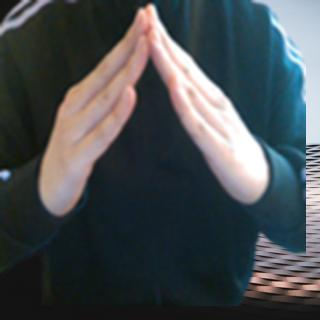HOME: (38, 1, 269, 216)
